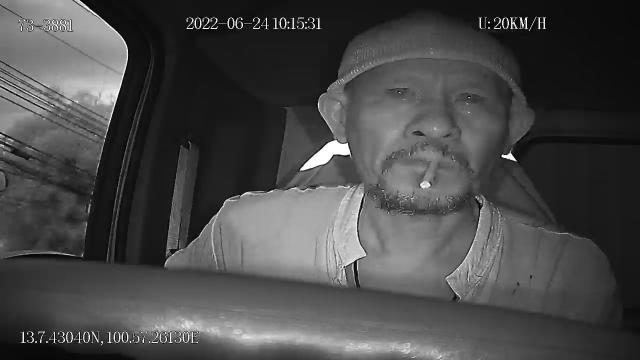SafeDriving: (448, 81, 496, 115), (381, 74, 424, 104)
Smoking: (418, 157, 442, 193)
